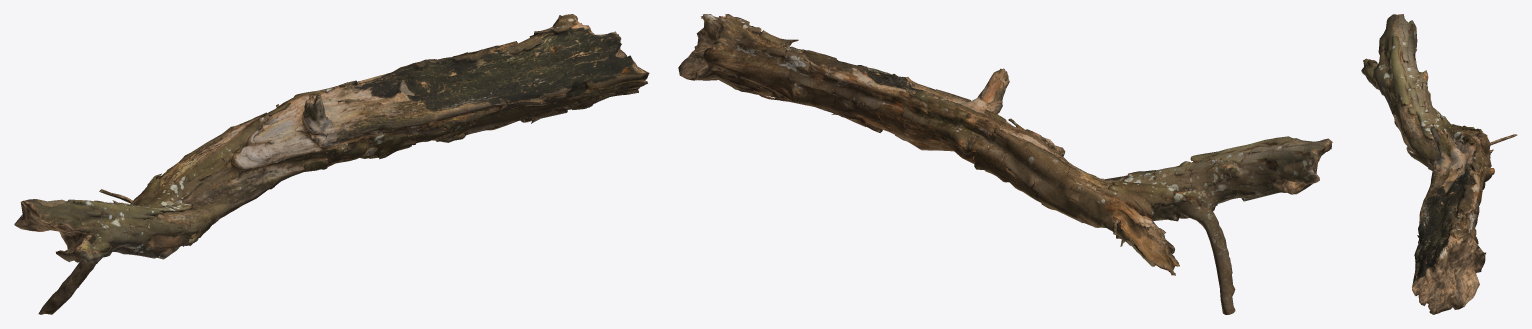
The model's file is dead_tree_trunk_02.glb.
The picture shows the model from 3 angles, left to right: view 1: azimuth 30°, elevation 25°; view 2: azimuth 150°, elevation 25°; view 3: azimuth 270°, elevation 25°; orthographic projection. The views are drawn at different scales.
Parts seen in each view (by area): view 1: dead_tree_trunk_02; view 2: dead_tree_trunk_02; view 3: dead_tree_trunk_02.
Part boxes in pixels (bbox=[...]): dead_tree_trunk_02: bbox=[14, 14, 649, 314]; dead_tree_trunk_02: bbox=[678, 14, 1332, 314]; dead_tree_trunk_02: bbox=[1361, 14, 1517, 314].
Size of the model in its own units: 4.05 by 1.06 by 1.06.
Materials: 1 (1 with a texture image).
